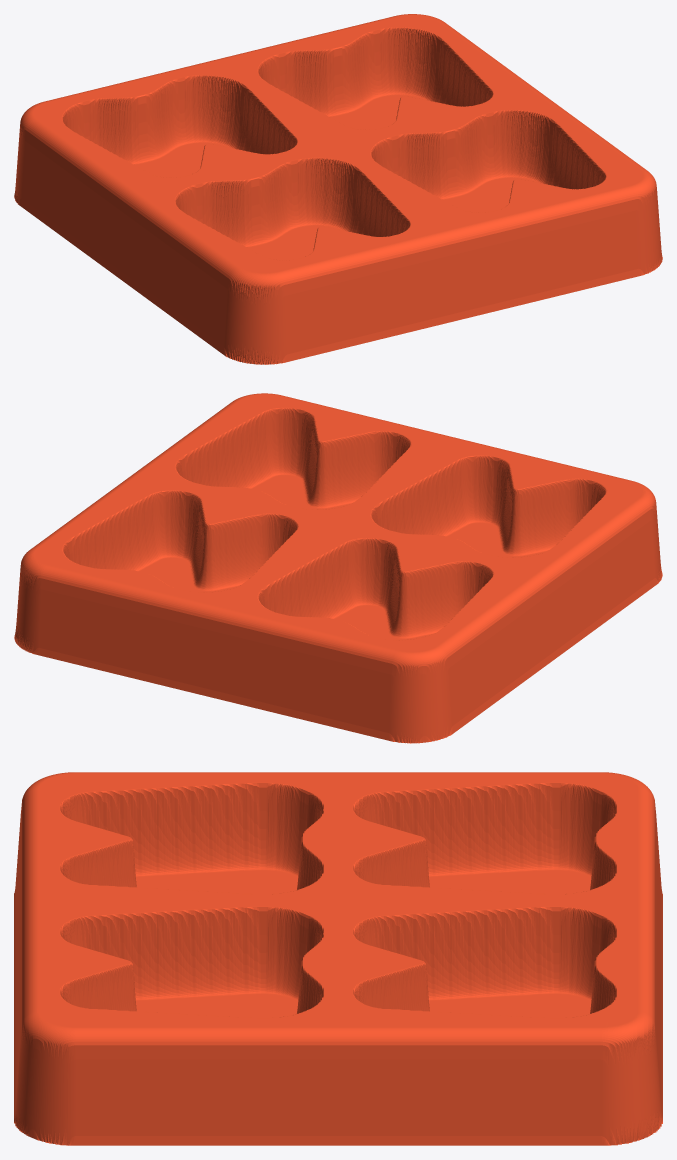
The model's file is mold.glb.
The picture shows the model from 3 angles, top to bottom: view 1: azimuth 30°, elevation 25°; view 2: azimuth 150°, elevation 25°; view 3: azimuth 270°, elevation 25°; orthographic projection. The views are drawn at different scales.
Parts seen in each view (by area): view 1: geometry_0; view 2: geometry_0; view 3: geometry_0.
Part boxes in pixels (bbox=[...]): geometry_0: bbox=[14, 14, 662, 364]; geometry_0: bbox=[14, 393, 662, 743]; geometry_0: bbox=[14, 772, 662, 1145].
Bounding box in the file's own units: 0.0952 × 0.0175 × 0.0952.
